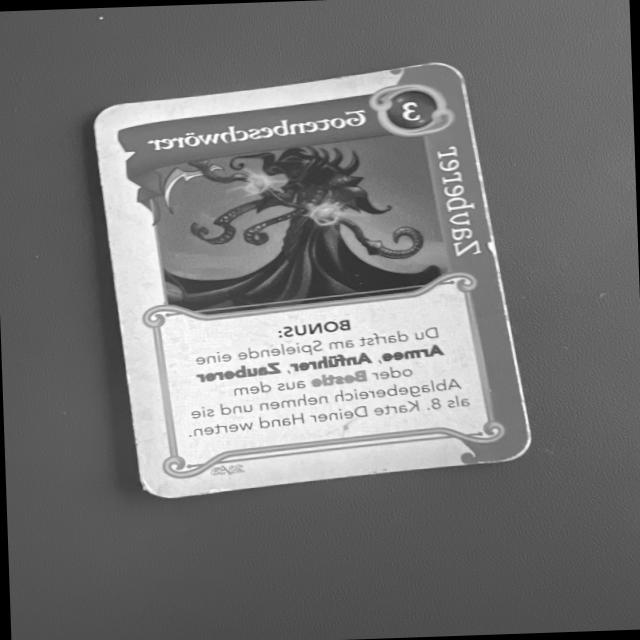Necromancer: (90, 63, 529, 511)
